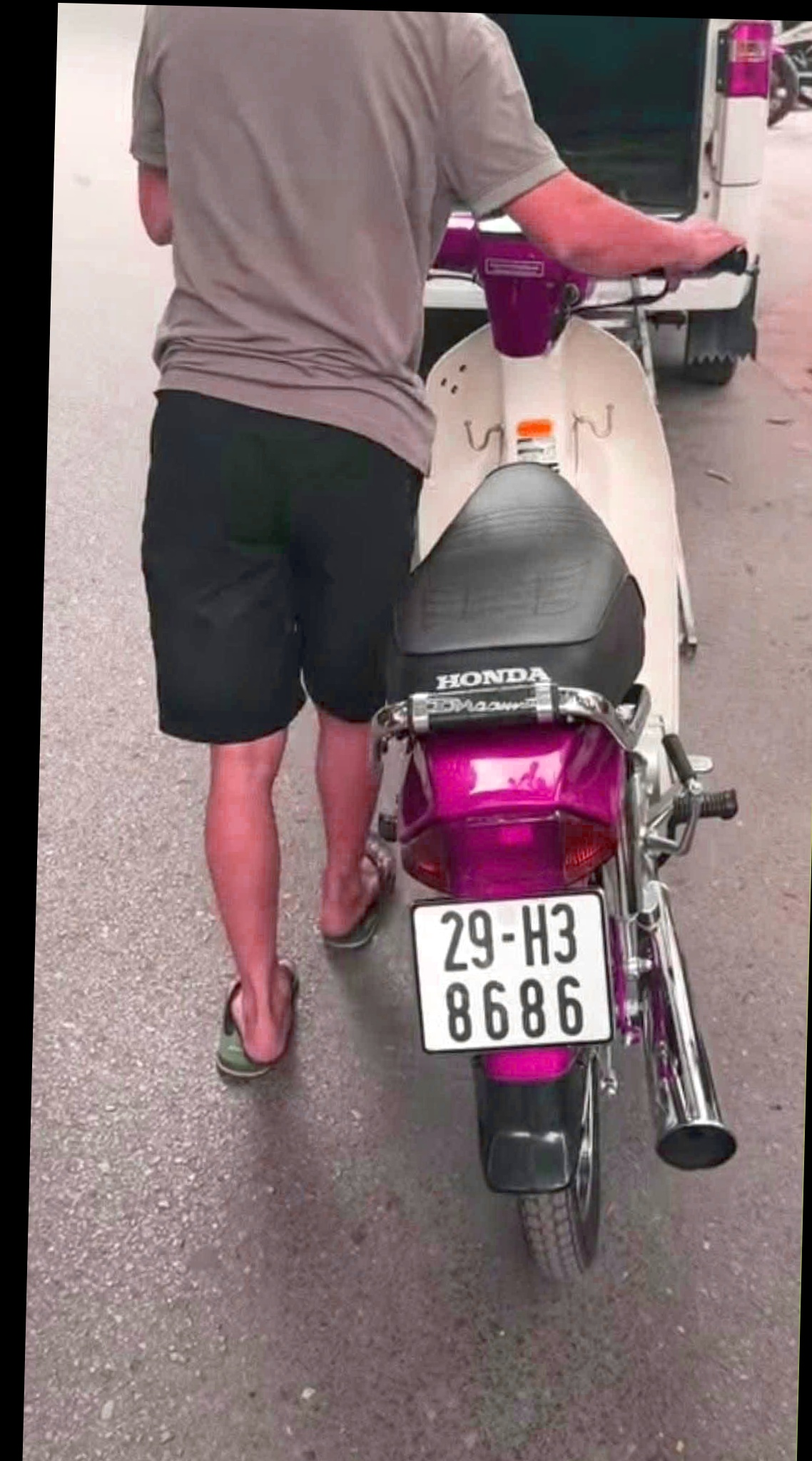Bien-so: (409, 861, 607, 1018)
